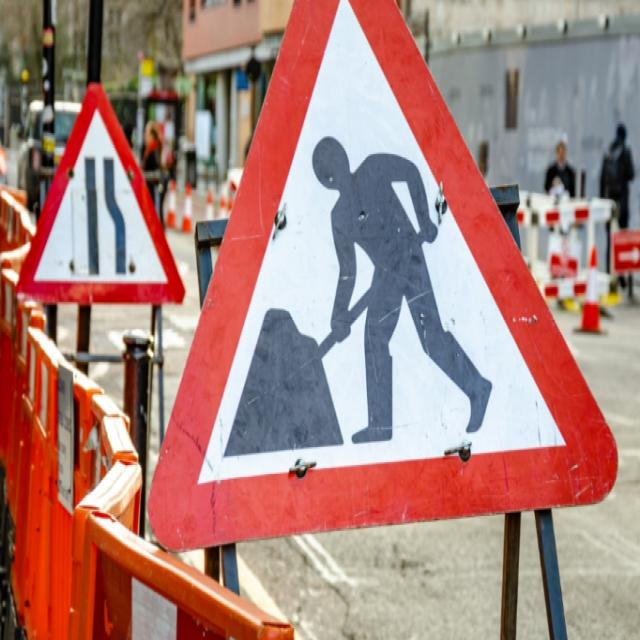WORKERS: (148, 0, 617, 549)
